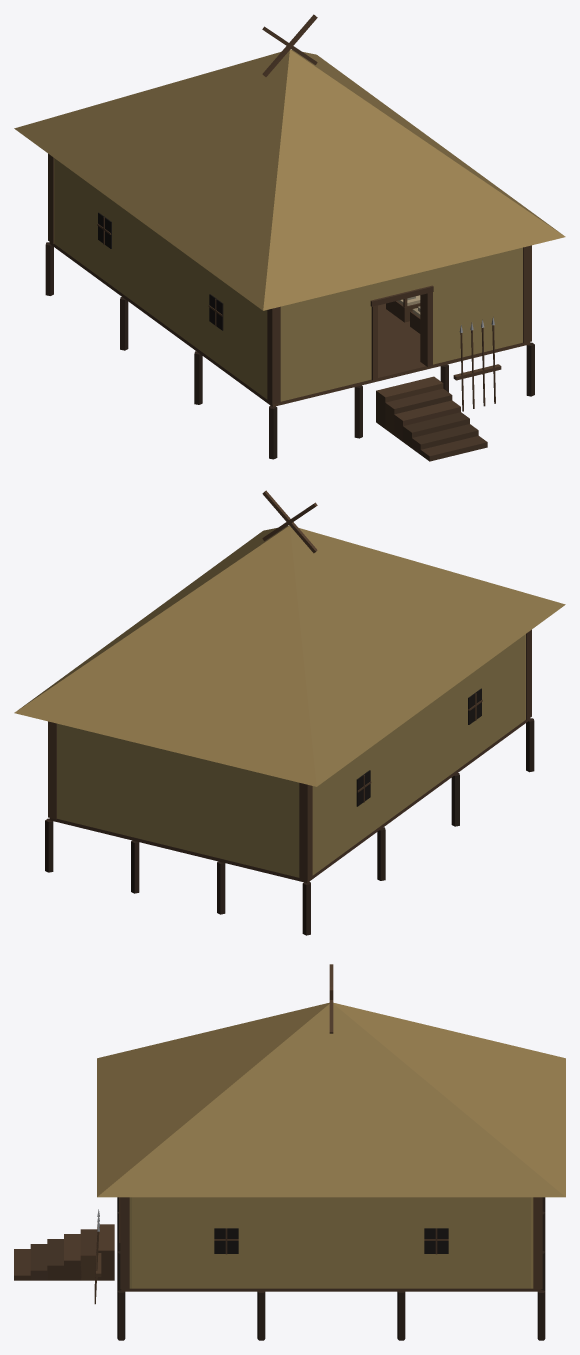
File: walk_tidebound_barracks.glb
The picture shows the model from 3 angles, top to bottom: view 1: azimuth 30°, elevation 25°; view 2: azimuth 150°, elevation 25°; view 3: azimuth 270°, elevation 25°; orthographic projection. The views are drawn at different scales.
Parts seen in each view (by area): view 1: walk_tidebound_barracks_roof, walk_tidebound_barracks; view 2: walk_tidebound_barracks_roof, walk_tidebound_barracks; view 3: walk_tidebound_barracks_roof, walk_tidebound_barracks.
Part boxes in pixels (bbox=[...]): walk_tidebound_barracks_roof: bbox=[14, 14, 565, 310]; walk_tidebound_barracks: bbox=[45, 153, 534, 461]; walk_tidebound_barracks_roof: bbox=[14, 490, 565, 786]; walk_tidebound_barracks: bbox=[45, 629, 534, 935]; walk_tidebound_barracks_roof: bbox=[97, 964, 565, 1197]; walk_tidebound_barracks: bbox=[14, 1197, 545, 1340].
Size of what is drawn, in the model's own units: 9.4 by 9.6 by 15.77.
Materials: 2 (2 with a texture image).
